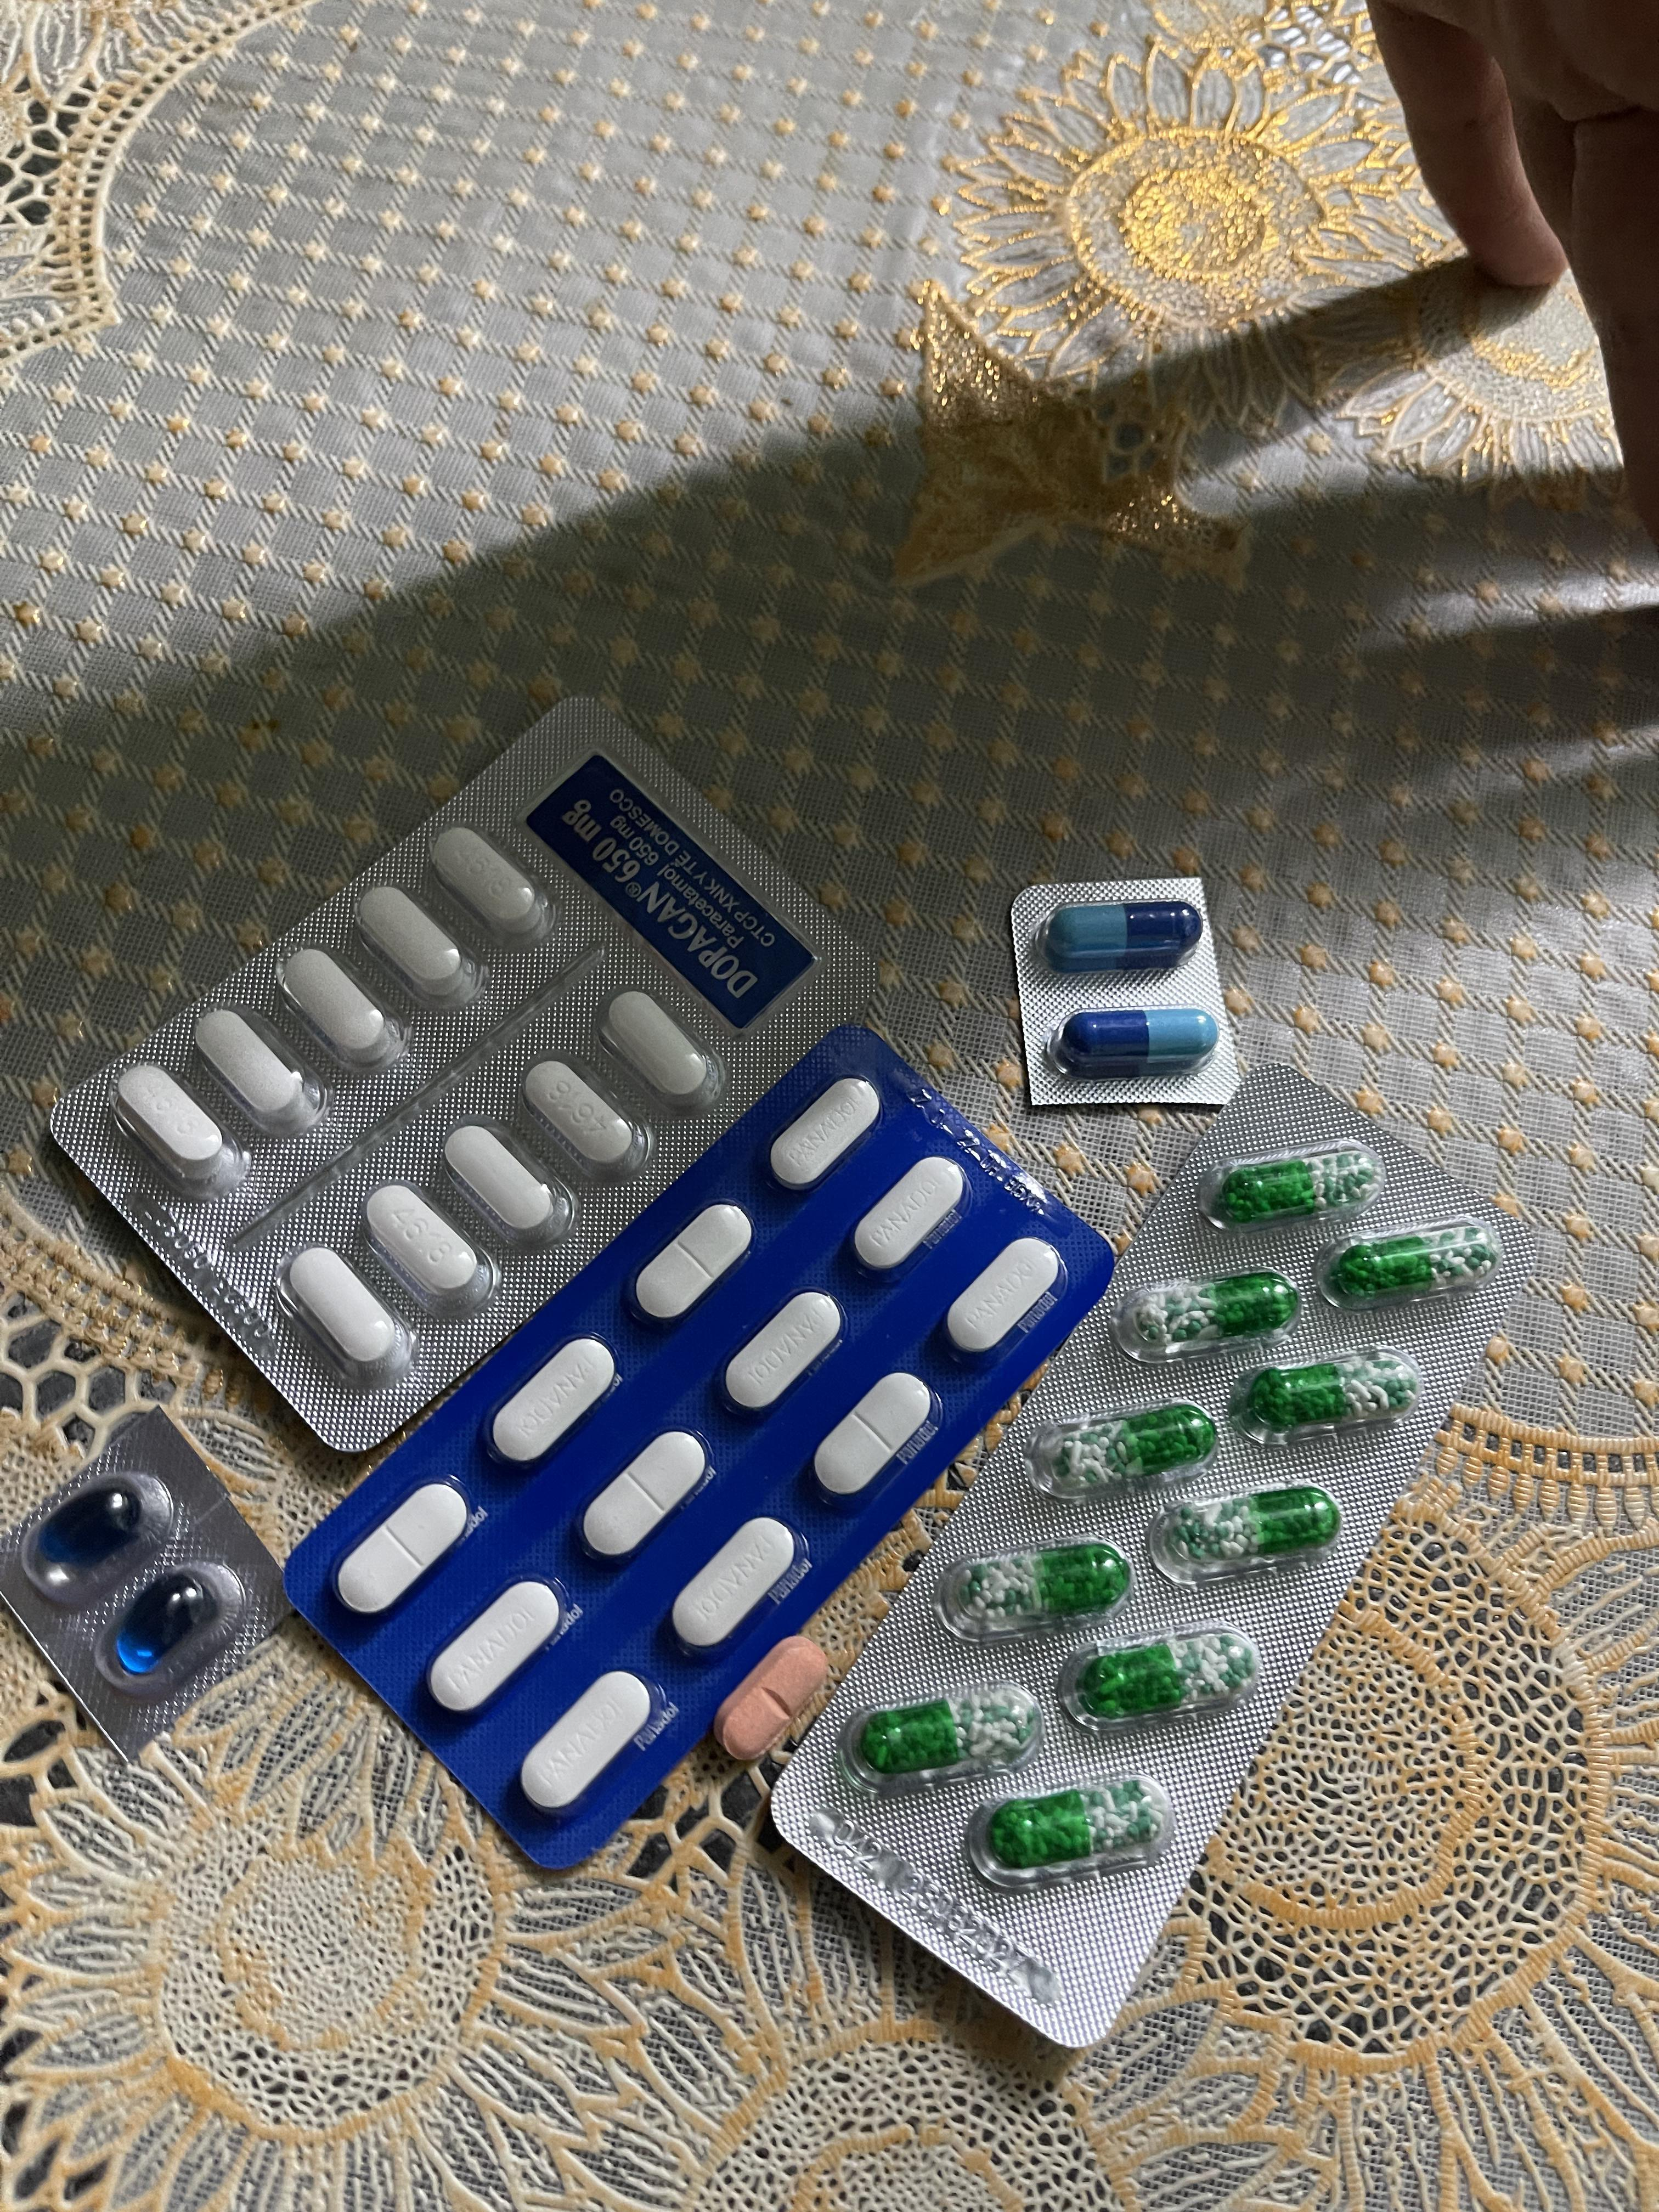Lincomyxin_500mg: (105, 1567, 229, 1686), (37, 1479, 156, 1576)
Loratadine_10mg: (718, 1637, 825, 1763)
Paracetamol_350mg: (520, 1671, 654, 1815), (428, 1578, 566, 1714), (335, 1481, 470, 1616), (672, 1514, 803, 1650), (487, 1336, 620, 1468), (579, 1428, 710, 1560), (812, 1369, 935, 1498), (628, 1202, 757, 1321), (720, 1289, 843, 1413), (941, 1239, 1062, 1358), (847, 1155, 966, 1273), (768, 1071, 884, 1186)
Paracetamol_500mg: (279, 1238, 420, 1384), (109, 1065, 242, 1199), (363, 1184, 498, 1317), (595, 986, 726, 1118), (442, 1124, 573, 1252), (522, 1059, 653, 1186), (353, 883, 482, 1012), (194, 1008, 320, 1137), (278, 945, 404, 1074), (431, 825, 557, 950)
Paracetamol_650mg: (969, 1773, 1164, 1887), (839, 1683, 1030, 1795), (1029, 1406, 1221, 1506), (1226, 1352, 1419, 1450), (936, 1537, 1110, 1640), (1160, 1491, 1344, 1587), (1125, 1269, 1295, 1362), (1088, 1634, 1243, 1714), (1220, 1154, 1376, 1223), (1337, 1230, 1493, 1295)
pill: (1047, 900, 1200, 973), (1056, 1008, 1215, 1076)
